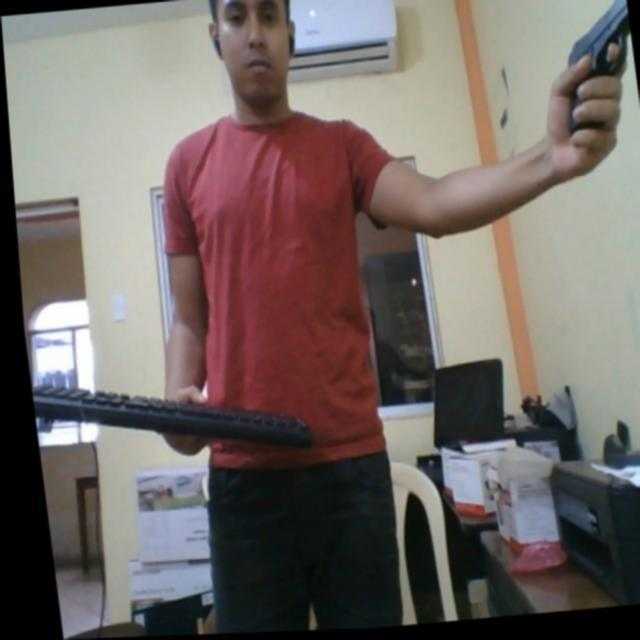weapon: (534, 0, 640, 159)
